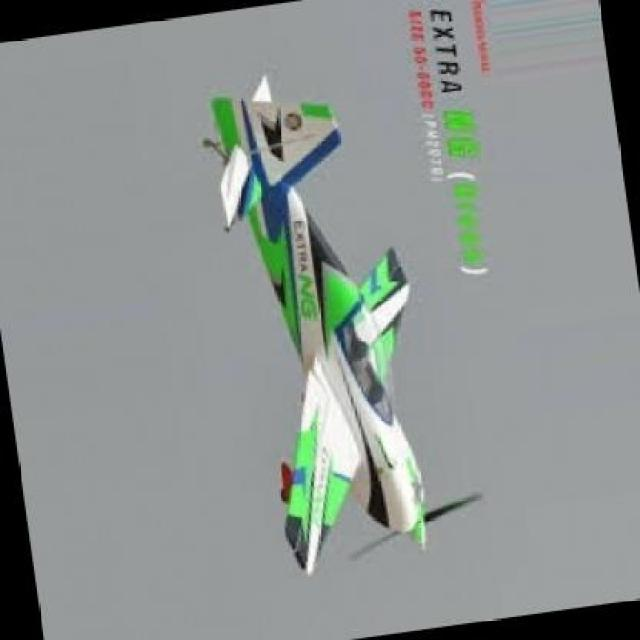iha: (186, 61, 441, 579)
